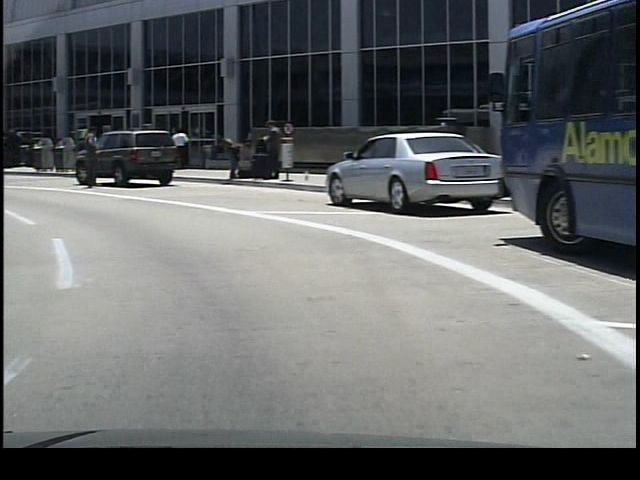person: (74, 117, 103, 196), (218, 131, 247, 185), (257, 120, 277, 182), (165, 127, 187, 172)
